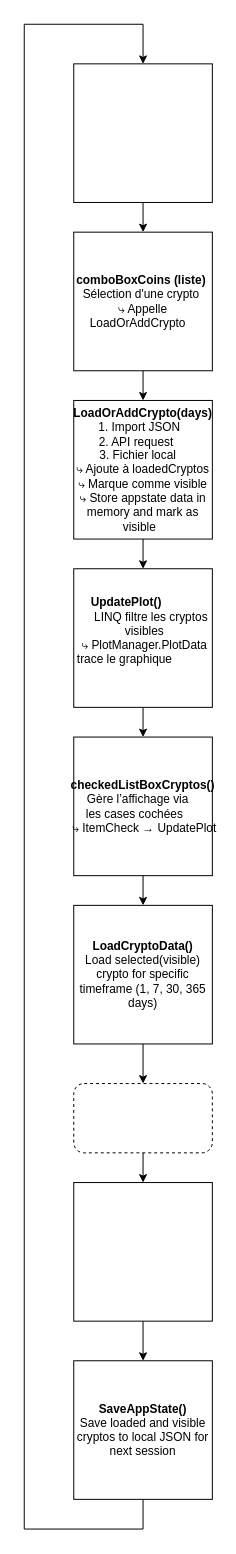
This 236x1554 diagram has some shape labels left out. The shapes that lost their labels are listed below. From the top down, each one's centre as x and y in pixels, then its label:
[142,132]: Form1 _Load() ⤷ Charge la liste des cryptos via API ou JSON
[142,1118]: buttonImport Import JSON file, extract coin info, add to memory and plot
[142,1251]: Form1_FormClosing() closing the form(application)
